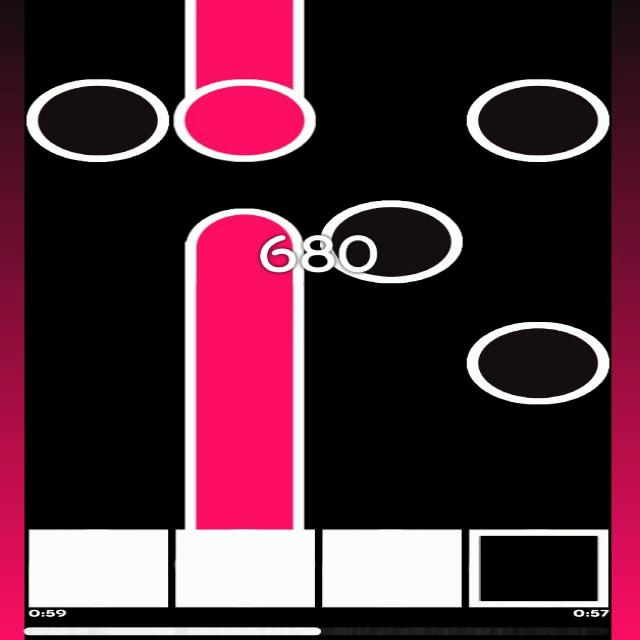end_hold: (183, 197, 303, 253)
note: (319, 200, 466, 285), (23, 78, 169, 163), (469, 79, 611, 163), (469, 320, 604, 404)
start_hold: (176, 58, 315, 162)
